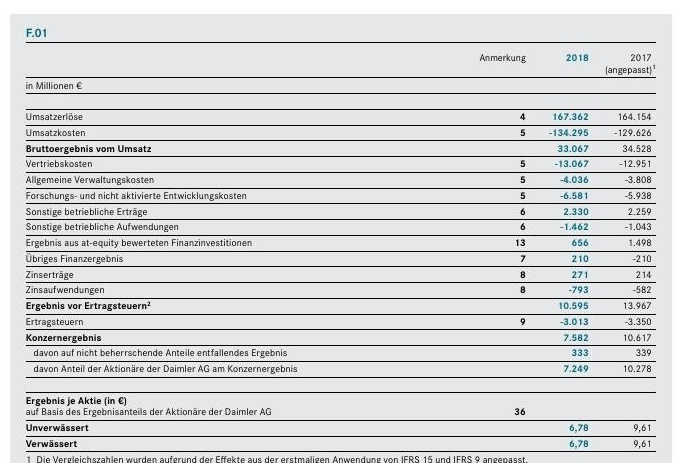table: (0, 0, 683, 463)
